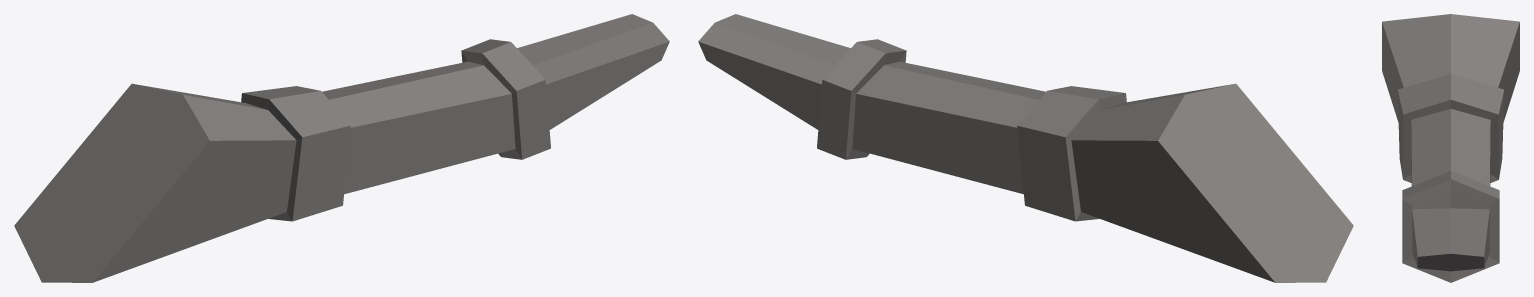
Rendered from Arm2.fbx.
3 renders of one model, left to right at view 1: azimuth 30°, elevation 25°; view 2: azimuth 150°, elevation 25°; view 3: azimuth 270°, elevation 25°, orthographic. The views are drawn at different scales.
Visible parts, largest first — view 1: Arm2.001; view 2: Arm2.001; view 3: Arm2.001.
Boxes of the visible parts, <box> form: Arm2.001: <box>14,14,669,282</box>; Arm2.001: <box>698,14,1353,282</box>; Arm2.001: <box>1382,14,1519,282</box>.
Bounding box in the file's own units: 52.75 × 12.64 × 11.69.
Materials: 1 (1 with a texture image).
